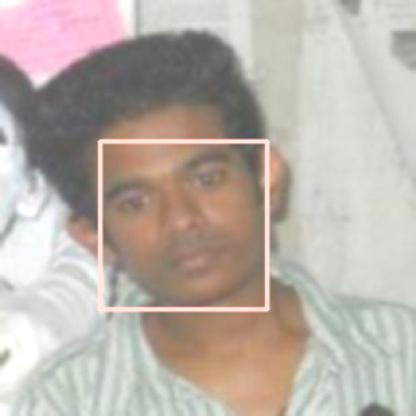without_mask: (100, 141, 267, 309)
